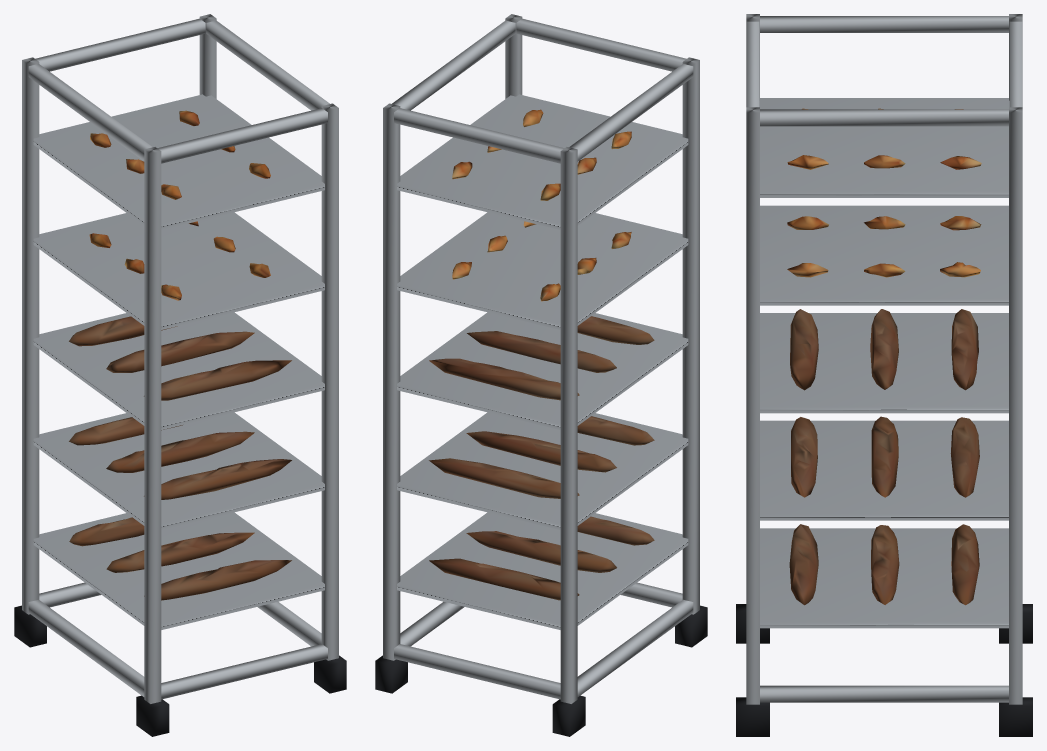
Rendered from bakery-trolley.glb.
3 renders of one model, left to right at view 1: azimuth 30°, elevation 25°; view 2: azimuth 150°, elevation 25°; view 3: azimuth 270°, elevation 25°, orthographic. The views are drawn at different scales.
Parts seen in each view (by area): view 1: geometry_0; view 2: geometry_0; view 3: geometry_0.
Part boxes in pixels (x1,y1,x2,y2): geometry_0: (14,14,346,736); geometry_0: (375,14,707,736); geometry_0: (736,14,1032,736).
Size of the model in its own units: 0.57 by 1.62 by 0.7.
